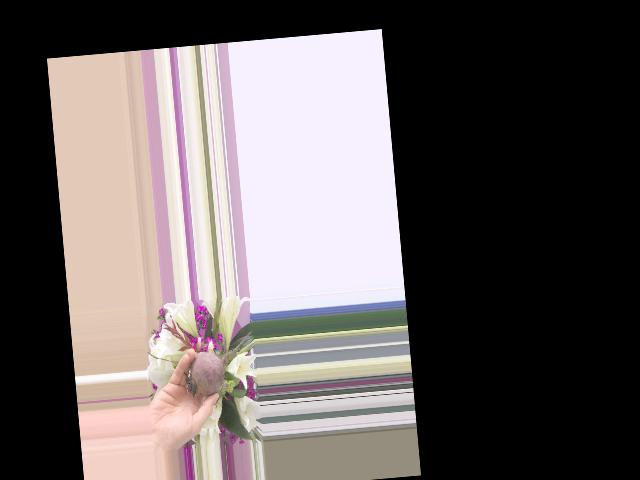beet: (181, 330, 256, 397)
